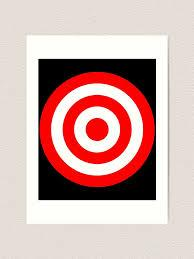target_red: (39, 70, 155, 188)
